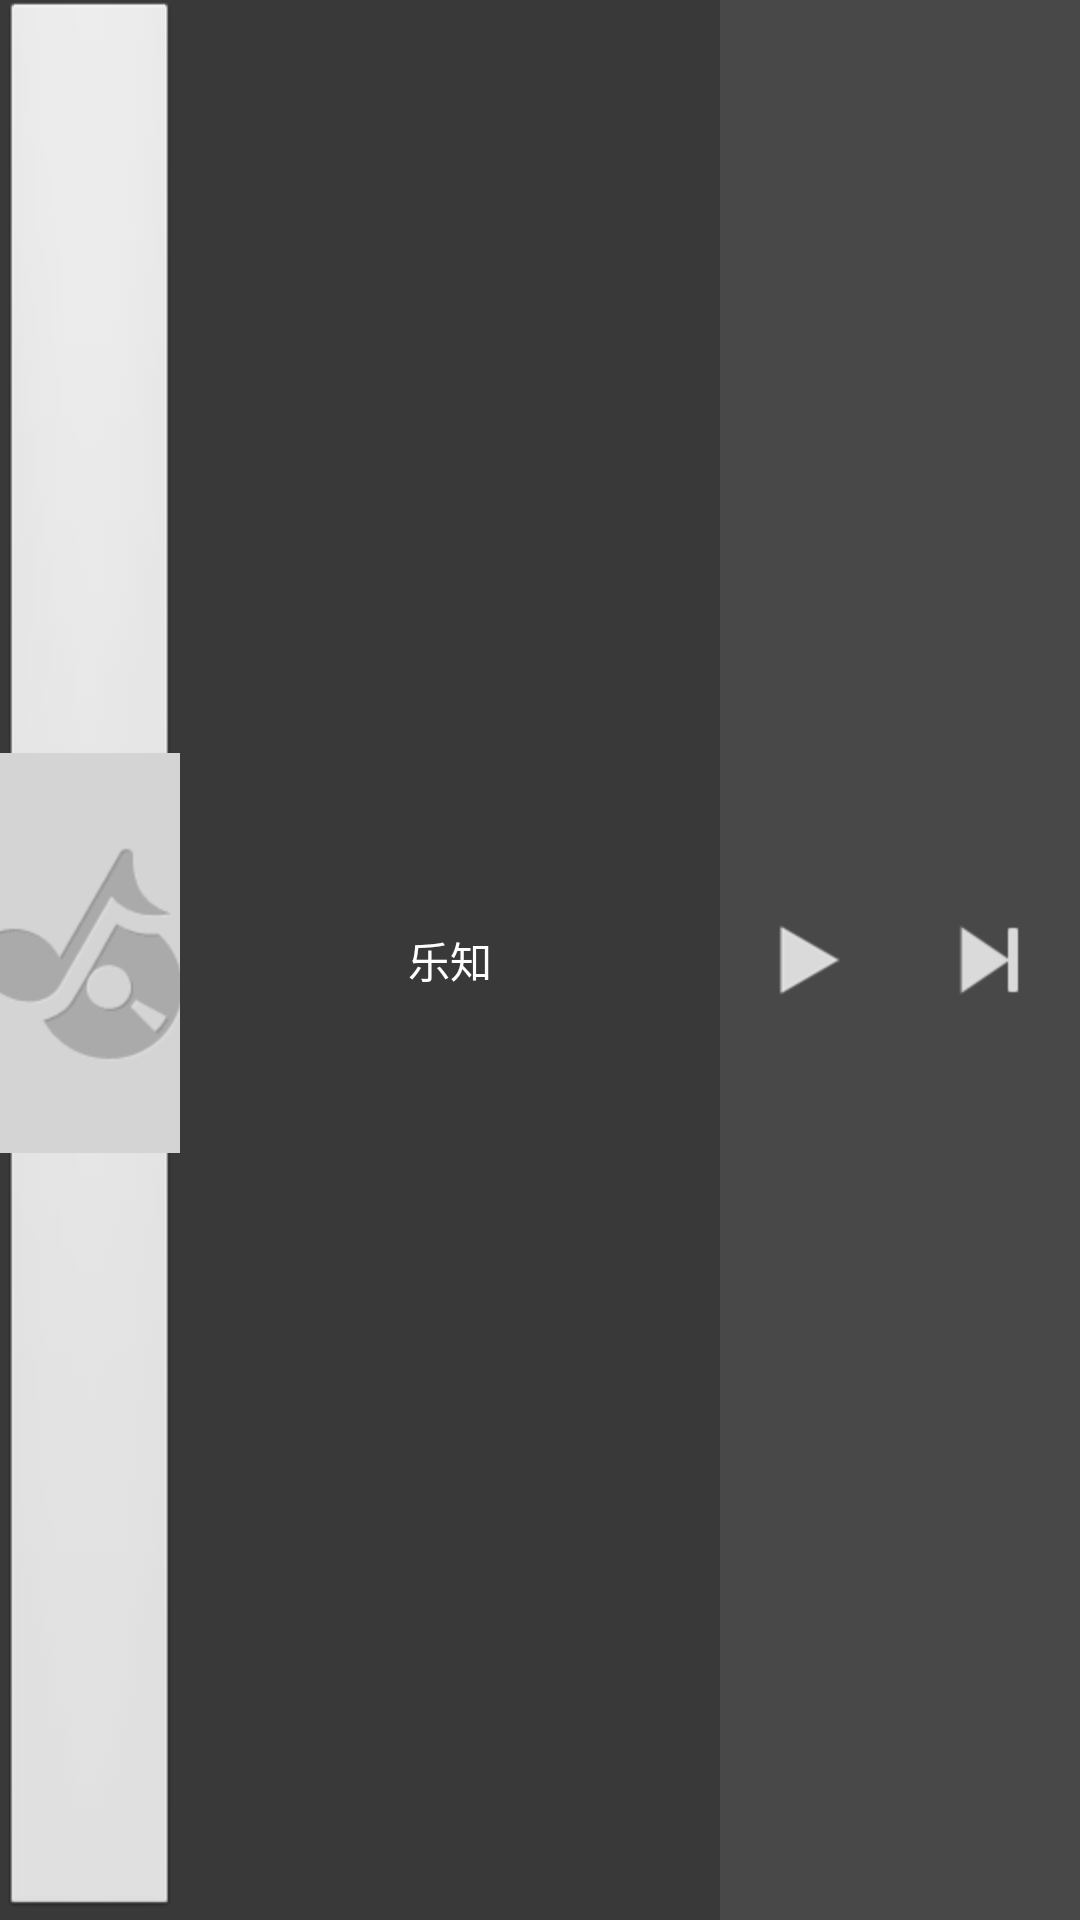

Locate icon controls on the screen. Image size 1080px×1920px, boxes as (x1, y1, x2, y2).
playing bar next: (960, 927, 1019, 993)
playing bar play: (780, 926, 839, 994)
